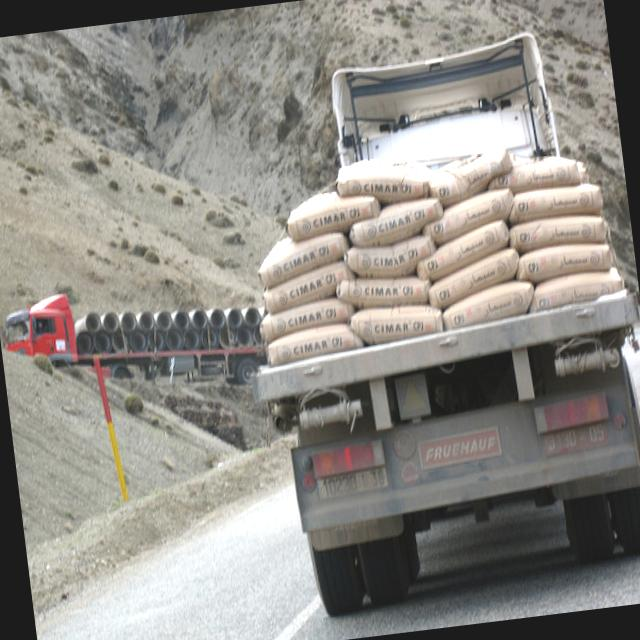Vehicle: (216, 30, 640, 626), (0, 258, 266, 413)
